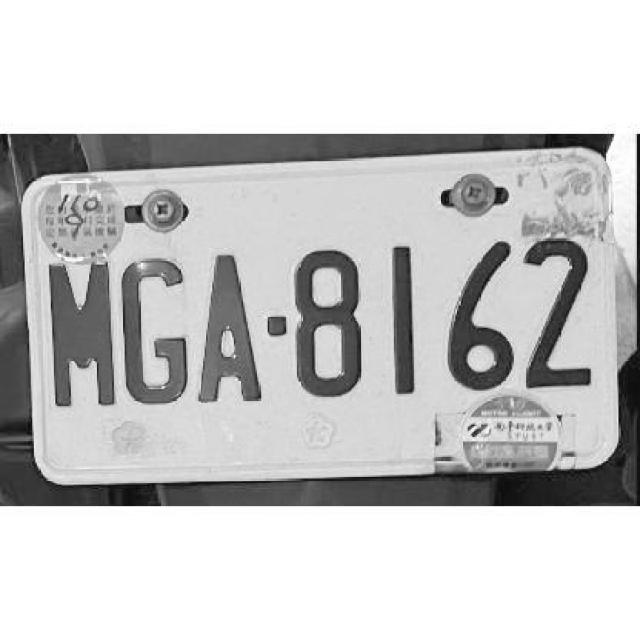-: (268, 311, 289, 335)
1: (388, 242, 418, 396)
2: (522, 231, 592, 392)
6: (444, 234, 518, 392)
8: (292, 242, 363, 398)
A: (196, 248, 266, 403)
G: (114, 252, 186, 405)
M: (48, 257, 117, 412)
